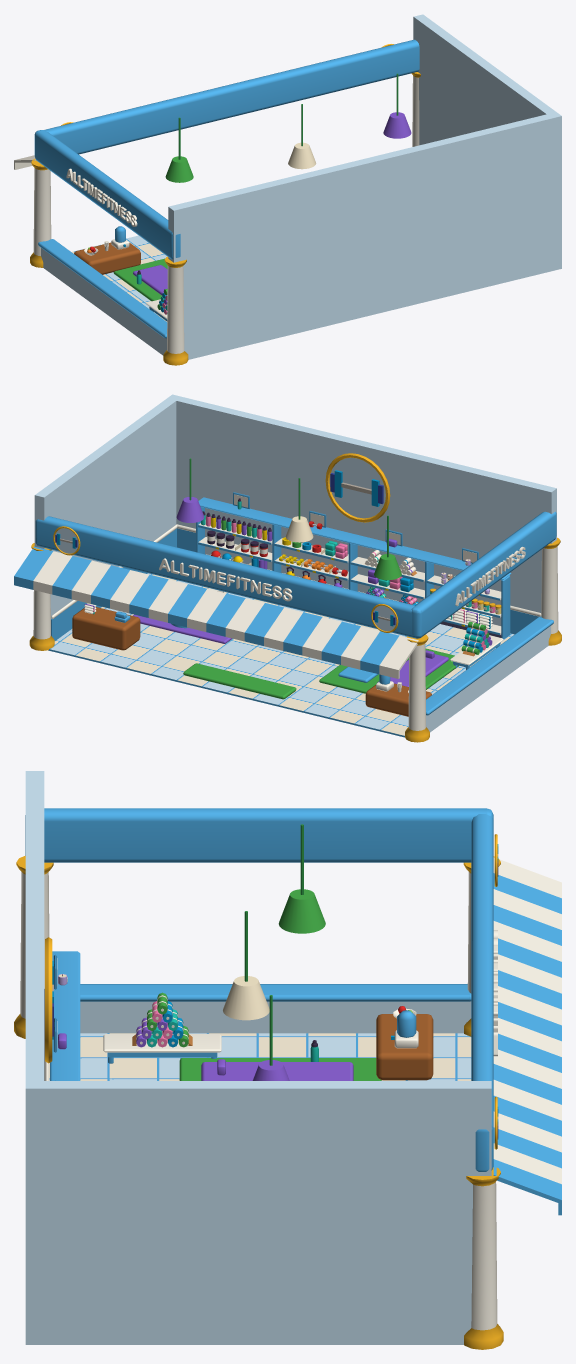
File: alltimefitness.glb
The picture shows the model from 3 angles, top to bottom: view 1: azimuth 30°, elevation 25°; view 2: azimuth 150°, elevation 25°; view 3: azimuth 270°, elevation 25°; orthographic projection. The views are drawn at different scales.
Parts seen in each view (by area): view 1: Shop_Fitness_Back_Wall, Shop_Fitness_Front_Canopy, Shop_Fitness_Shell, Shop_Fitness_Side_Wall, Hydration_Table, Wellness_Yoga_Rug, Yoga_Demo_Mat_0, Wellness_Pendant_Shade_0, Wellness_Pendant_Shade_2, Wellness_Pendant_Shade_1, M_Fitness_Studio; view 2: Shop_Fitness_Back_Wall, Shop_Fitness_Front_Canopy, Shop_Fitness_Shell, M_Fitness_ProductWall, Shop_Fitness_Side_Wall, Wellness_Reception, Refined_Wellness_Entry_Mat, M_Fitness_MatRack, Wellness_Yoga_Rug, Hydration_Table, Meditation_Rug, M_Fitness_Studio (+4 smaller); view 3: Shop_Fitness_Side_Wall, Shop_Fitness_Front_Canopy, Shop_Fitness_Shell, Shop_Fitness_Back_Wall, M_Fitness_MatRack, M_Fitness_ProductWall, Hydration_Table, Yoga_Demo_Mat_0, Wellness_Yoga_Rug, Wellness_Pendant_Shade_0, Wellness_Pendant_Shade_1, M_Fitness_Studio.
Boxes of the visible parts, bbox=[...] form: Shop_Fitness_Back_Wall: bbox=[168, 112, 561, 359]; Shop_Fitness_Front_Canopy: bbox=[14, 39, 419, 259]; Shop_Fitness_Shell: bbox=[30, 72, 420, 365]; Shop_Fitness_Side_Wall: bbox=[413, 14, 555, 145]; Hydration_Table: bbox=[74, 242, 140, 274]; Wellness_Yoga_Rug: bbox=[113, 258, 167, 301]; Yoga_Demo_Mat_0: bbox=[133, 265, 167, 295]; Wellness_Pendant_Shade_0: bbox=[165, 156, 193, 182]; Wellness_Pendant_Shade_2: bbox=[383, 112, 411, 138]; Wellness_Pendant_Shade_1: bbox=[288, 142, 316, 169]; M_Fitness_Studio: bbox=[84, 226, 141, 284]; Shop_Fitness_Back_Wall: bbox=[167, 394, 556, 634]; Shop_Fitness_Front_Canopy: bbox=[14, 511, 556, 678]; Shop_Fitness_Shell: bbox=[29, 537, 561, 742]; M_Fitness_ProductWall: bbox=[196, 492, 511, 639]; Shop_Fitness_Side_Wall: bbox=[34, 398, 177, 640]; Wellness_Reception: bbox=[72, 607, 140, 650]; Refined_Wellness_Entry_Mat: bbox=[183, 663, 296, 699]; M_Fitness_MatRack: bbox=[450, 621, 503, 669]; Wellness_Yoga_Rug: bbox=[319, 648, 458, 693]; Hydration_Table: bbox=[365, 683, 431, 716]; Meditation_Rug: bbox=[133, 614, 232, 643]; M_Fitness_Studio: bbox=[84, 588, 434, 692]; Shop_Fitness_Side_Wall: bbox=[44, 1081, 491, 1344]; Shop_Fitness_Front_Canopy: bbox=[25, 808, 561, 1215]; Shop_Fitness_Shell: bbox=[14, 856, 503, 1349]; Shop_Fitness_Back_Wall: bbox=[25, 771, 53, 1344]; M_Fitness_MatRack: bbox=[103, 992, 221, 1063]; M_Fitness_ProductWall: bbox=[50, 951, 80, 1080]; Hydration_Table: bbox=[376, 1014, 433, 1080]; Yoga_Demo_Mat_0: bbox=[201, 1062, 353, 1080]; Wellness_Yoga_Rug: bbox=[179, 1058, 381, 1080]; Wellness_Pendant_Shade_0: bbox=[278, 889, 325, 933]; Wellness_Pendant_Shade_1: bbox=[223, 976, 269, 1020]; M_Fitness_Studio: bbox=[217, 1006, 418, 1075].
Size of the model in its own units: 12.48 by 4.89 by 8.82.
28 materials, 1 textured.
